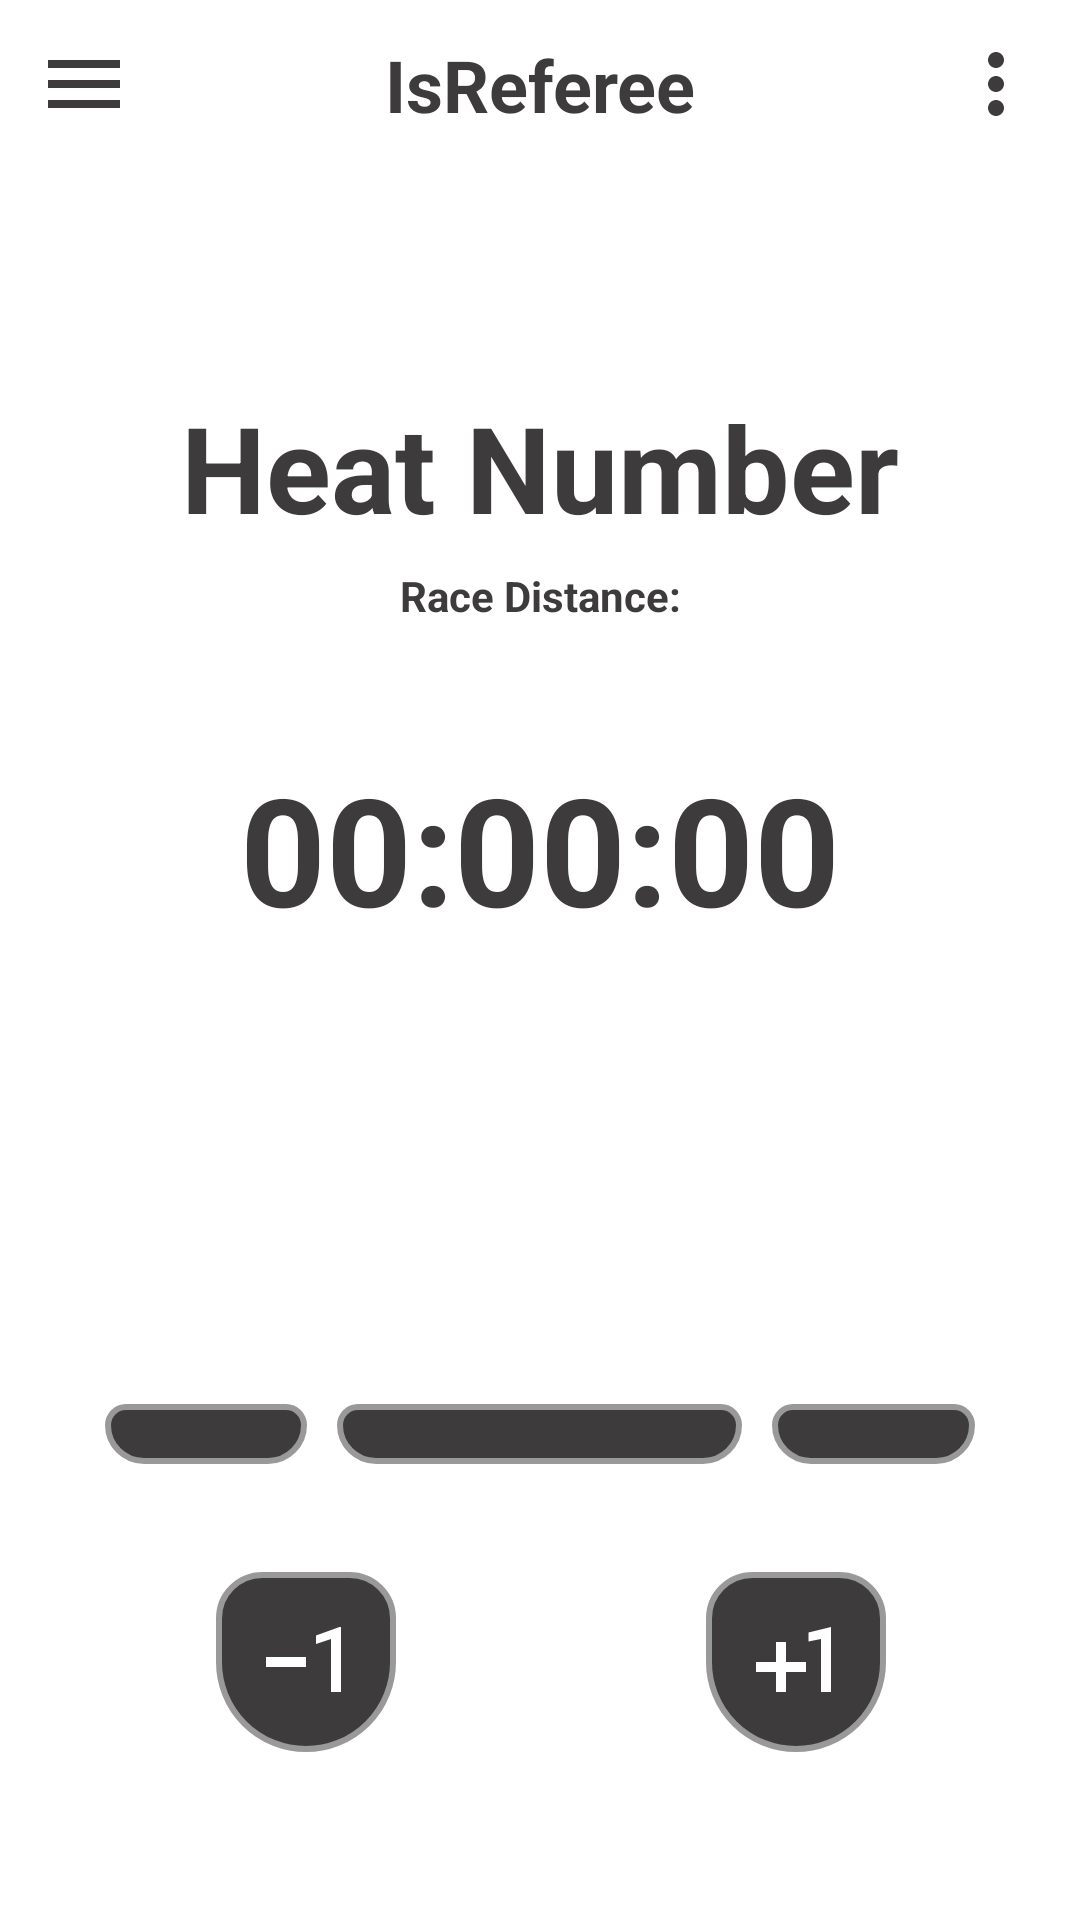

Where icons sit on this 1080px×1920px app screen, as {"left": x1, "top": y1, "right": x2, "bottom": y2}:
menuicon: {"left": 48, "top": 60, "right": 120, "bottom": 108}
moreicon: {"left": 988, "top": 52, "right": 1004, "bottom": 116}
